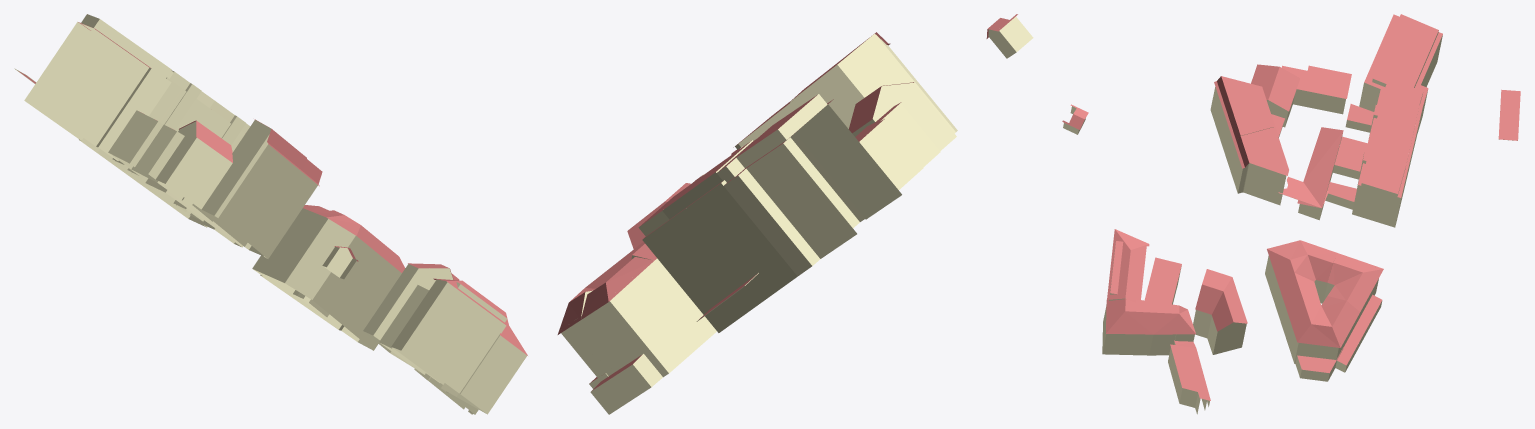
File: tile_092.glb
3 renders of one model, left to right at view 1: azimuth 30°, elevation 25°; view 2: azimuth 150°, elevation 25°; view 3: azimuth 270°, elevation 25°, orthographic. The views are drawn at different scales.
Visible parts, largest first — view 1: Batched_Building_ID_03FC27CD-B3D7-443A-B013-EB460E054154, Batched_Building_ID_620F0A01-A2CB-448F-95B1-009F0D6D8711; view 2: Batched_Building_ID_03FC27CD-B3D7-443A-B013-EB460E054154, Batched_Building_ID_620F0A01-A2CB-448F-95B1-009F0D6D8711; view 3: Batched_Building_ID_620F0A01-A2CB-448F-95B1-009F0D6D8711, Batched_Building_ID_03FC27CD-B3D7-443A-B013-EB460E054154.
Boxes of the visible parts, box(x1,y1,x2,y2) form: Batched_Building_ID_03FC27CD-B3D7-443A-B013-EB460E054154: box(14, 14, 527, 414); Batched_Building_ID_620F0A01-A2CB-448F-95B1-009F0D6D8711: box(18, 22, 527, 355); Batched_Building_ID_03FC27CD-B3D7-443A-B013-EB460E054154: box(561, 16, 1033, 414); Batched_Building_ID_620F0A01-A2CB-448F-95B1-009F0D6D8711: box(557, 14, 1017, 390); Batched_Building_ID_620F0A01-A2CB-448F-95B1-009F0D6D8711: box(1062, 14, 1520, 400); Batched_Building_ID_03FC27CD-B3D7-443A-B013-EB460E054154: box(1063, 30, 1517, 414).
Bounding box in the file's own units: 106 × 107 × 147.
